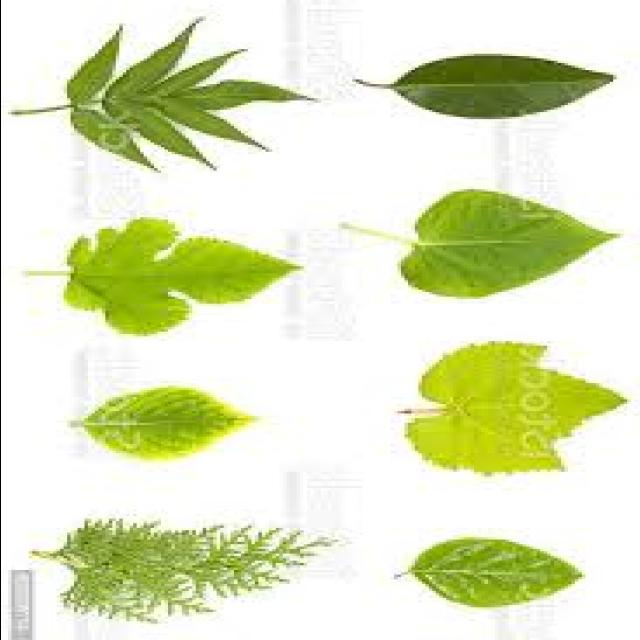leaves: (12, 21, 307, 170), (27, 219, 298, 335), (341, 190, 618, 298), (408, 342, 625, 470), (354, 55, 614, 119), (69, 388, 255, 459), (395, 539, 582, 608)
